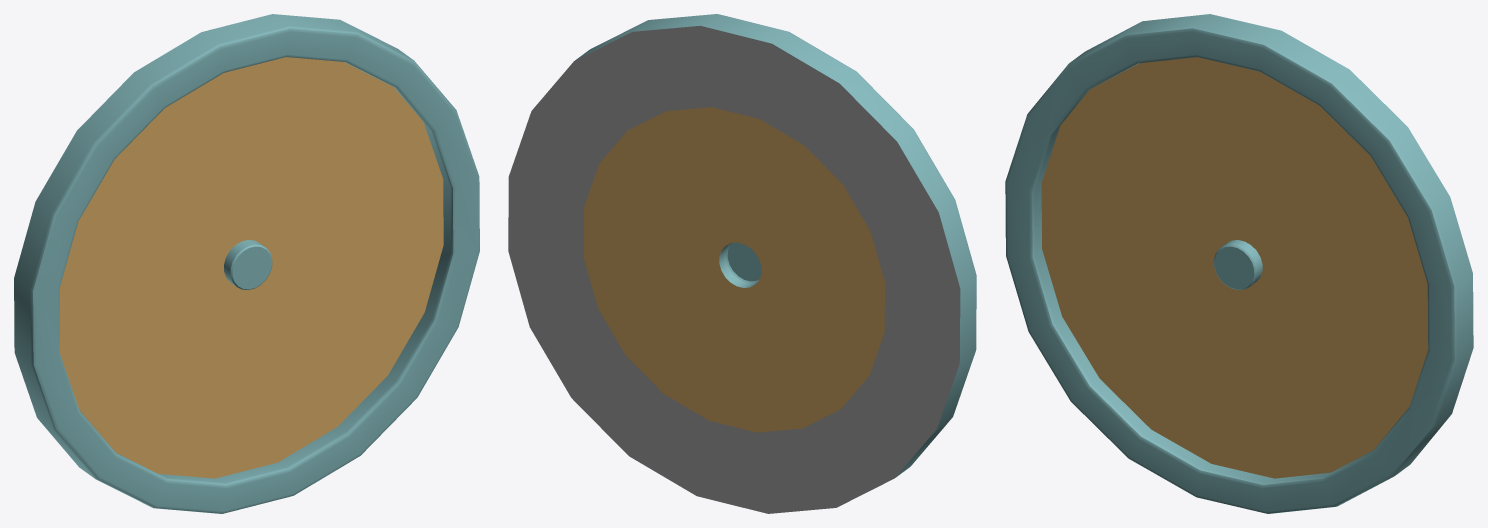
Rendered from Clock_cleaned.fbx.
The picture shows the model from 3 angles, left to right: view 1: azimuth 30°, elevation 25°; view 2: azimuth 150°, elevation 25°; view 3: azimuth 330°, elevation 25°; orthographic projection.
Parts seen in each view (by area): view 1: Clock1; view 2: Clock1; view 3: Clock1.
Part boxes in pixels (<box>): Clock1: <box>14,14,479,513</box>; Clock1: <box>508,14,976,513</box>; Clock1: <box>1005,14,1473,513</box>.
Bounding box in the file's own units: 1.51 × 1.5 × 0.1145.
